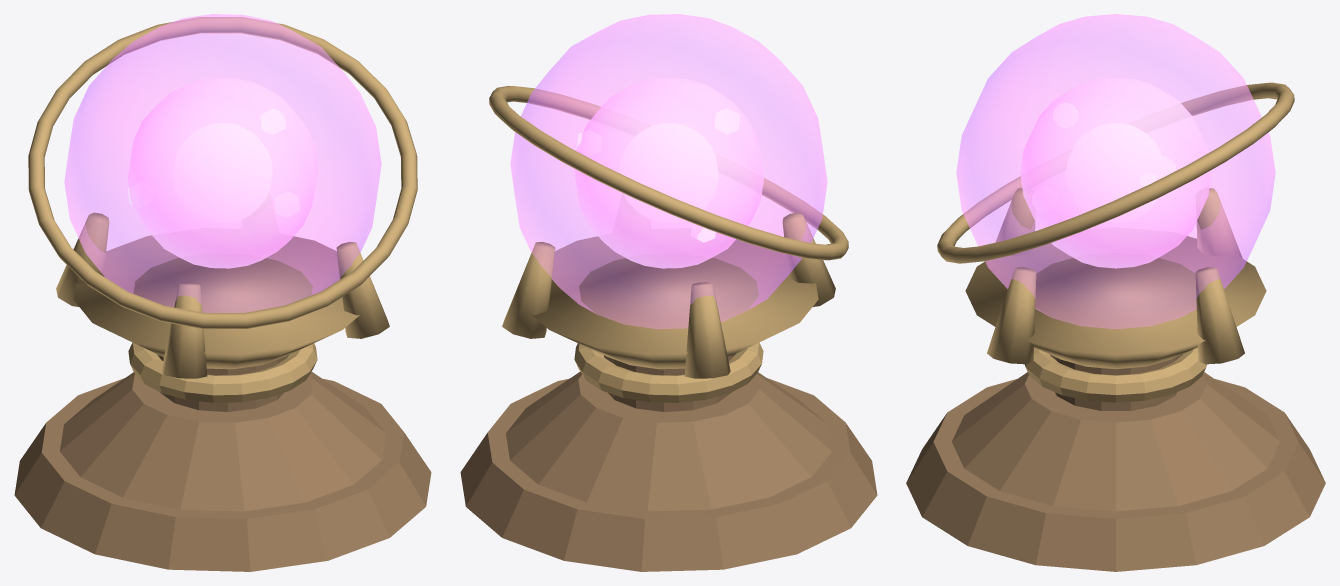
File: item_crystal_ball.glb
3 views of the same model, side by side, from view 1: azimuth 30°, elevation 25°; view 2: azimuth 150°, elevation 25°; view 3: azimuth 270°, elevation 25° (orthographic).
Visible parts, largest first — view 1: CrystalOuterGlass, PedestalBase, PedestalPlinth, CrystalCoreAura, PedestalCup, ArcaneRunicRing, CrystalCoreHeart, PedestalRing, PedestalProng_2, PedestalProng_3, PedestalProng_1, PedestalStem; view 2: CrystalOuterGlass, PedestalBase, PedestalPlinth, CrystalCoreAura, PedestalCup, ArcaneRunicRing, CrystalCoreHeart, PedestalRing, PedestalProng_1, PedestalProng_0, PedestalProng_2, PedestalStem; view 3: CrystalOuterGlass, PedestalBase, PedestalPlinth, CrystalCoreAura, PedestalCup, ArcaneRunicRing, CrystalCoreHeart, PedestalRing, PedestalProng_0, PedestalProng_3, PedestalProng_1, PedestalStem (+1 smaller).
Part boxes in pixels (x1,y1,x2,y2): CrystalOuterGlass: [64, 14, 381, 312]; PedestalBase: [60, 371, 385, 511]; PedestalPlinth: [14, 378, 431, 571]; CrystalCoreAura: [128, 77, 317, 268]; PedestalCup: [73, 235, 359, 369]; ArcaneRunicRing: [28, 17, 417, 329]; CrystalCoreHeart: [173, 123, 272, 222]; PedestalRing: [128, 342, 317, 402]; PedestalProng_2: [161, 282, 207, 378]; PedestalProng_3: [336, 242, 389, 338]; PedestalProng_1: [56, 212, 109, 306]; PedestalStem: [158, 354, 287, 411]; CrystalOuterGlass: [510, 14, 827, 328]; PedestalBase: [506, 371, 831, 511]; PedestalPlinth: [460, 378, 877, 571]; CrystalCoreAura: [574, 77, 763, 268]; PedestalCup: [532, 236, 818, 369]; ArcaneRunicRing: [489, 86, 848, 260]; CrystalCoreHeart: [619, 123, 718, 222]; PedestalRing: [574, 342, 763, 402]; PedestalProng_1: [684, 282, 730, 378]; PedestalProng_0: [502, 242, 555, 338]; PedestalProng_2: [782, 212, 835, 306]; PedestalStem: [604, 354, 733, 411]; CrystalOuterGlass: [956, 14, 1275, 328]; PedestalBase: [952, 372, 1279, 511]; PedestalPlinth: [906, 379, 1325, 571]; CrystalCoreAura: [1020, 77, 1211, 268]; PedestalCup: [965, 236, 1266, 369]; ArcaneRunicRing: [937, 82, 1294, 263]; CrystalCoreHeart: [1066, 123, 1165, 222]; PedestalRing: [1024, 347, 1207, 402]; PedestalProng_0: [1195, 267, 1244, 364]; PedestalProng_3: [987, 267, 1036, 364]; PedestalProng_1: [1197, 188, 1242, 258]; PedestalStem: [1050, 355, 1181, 410].
Size of the model in its own units: 0.46 by 0.55 by 0.46.
